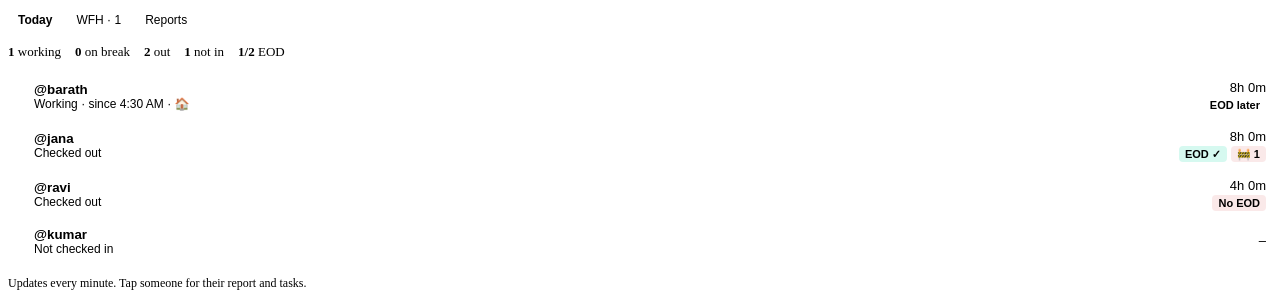
a member still checked in: the report "opens when they check out", not "missing"
Click the button "@barath Working · since 4:30 AM · 🏠 8h 0m EOD later" at x=61, y=90, box x1=8 y1=72 x2=1272 y2=121
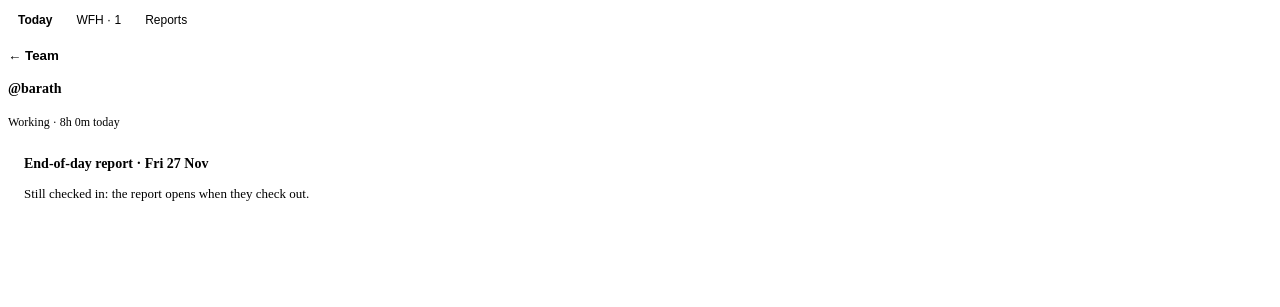
Expected: the text "Still checked in: the report opens when they check out." is shown, x1=24 y1=186 x2=309 y2=201
